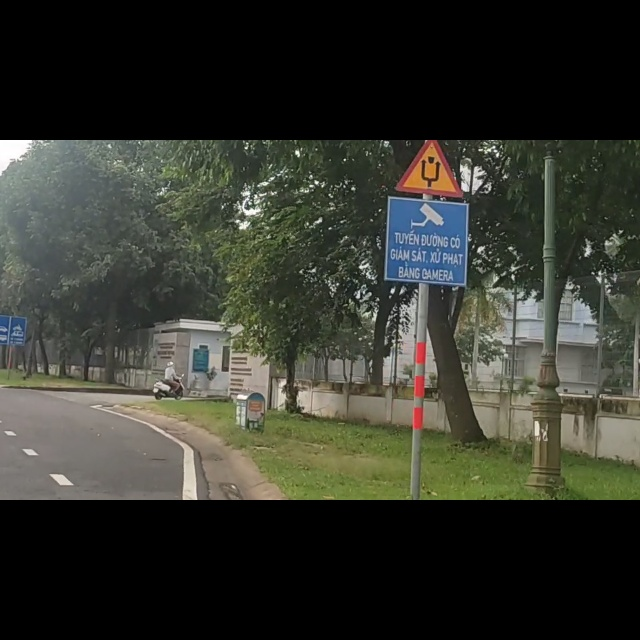bien_nguy_hiem: (388, 4, 474, 104)
